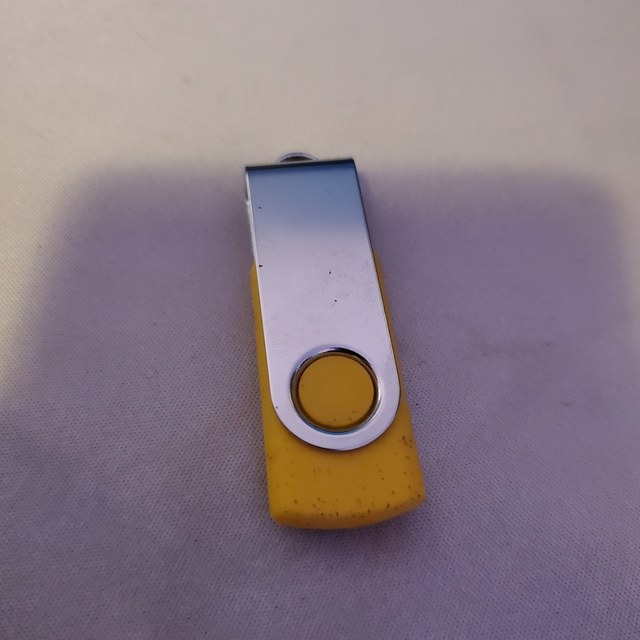usb_drive: (231, 146, 442, 547)
